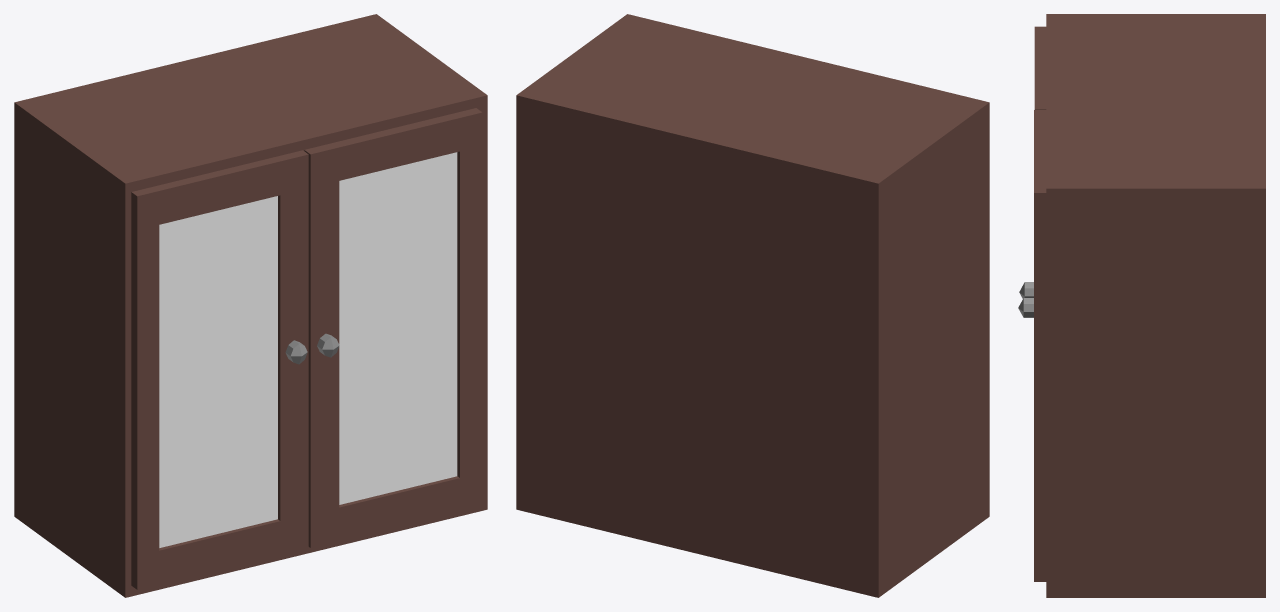
The model's file is Kitchen Shelf.glb.
The picture shows the model from 3 angles, left to right: view 1: azimuth 30°, elevation 25°; view 2: azimuth 150°, elevation 25°; view 3: azimuth 270°, elevation 25°; orthographic projection.
Parts seen in each view (by area): view 1: Shelf; view 2: Shelf; view 3: Shelf.
Boxes of the visible parts, left/top/right/bottom form: Shelf: left=14, top=14, right=487, bottom=597; Shelf: left=516, top=14, right=989, bottom=597; Shelf: left=1018, top=14, right=1265, bottom=597.
Size of the model in its own units: 0.7685 by 0.84 by 0.4607.
2 materials, 1 textured.
